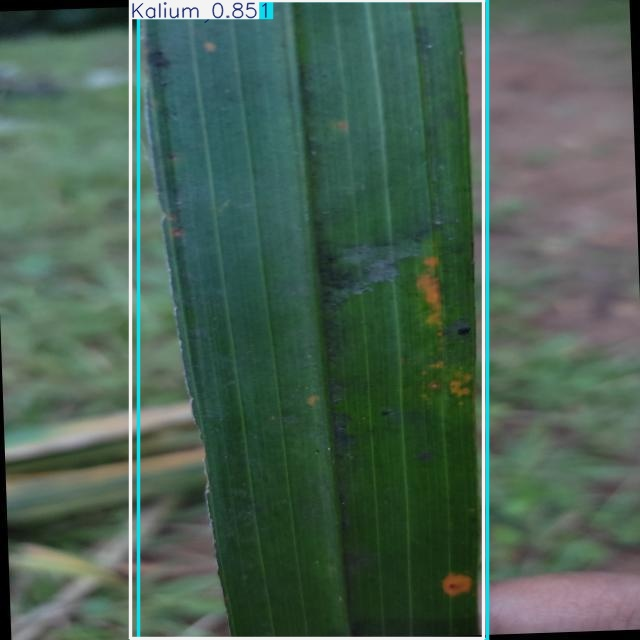Healthy: (139, 0, 488, 639)
Kalium: (130, 1, 483, 639)
